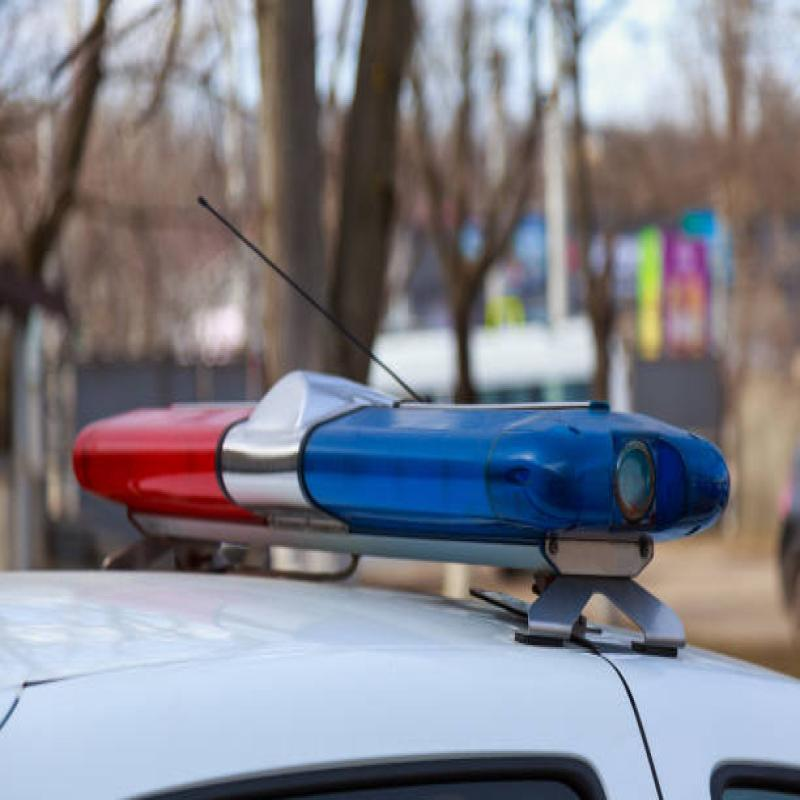AmbulanceSiren: (37, 307, 800, 604)
